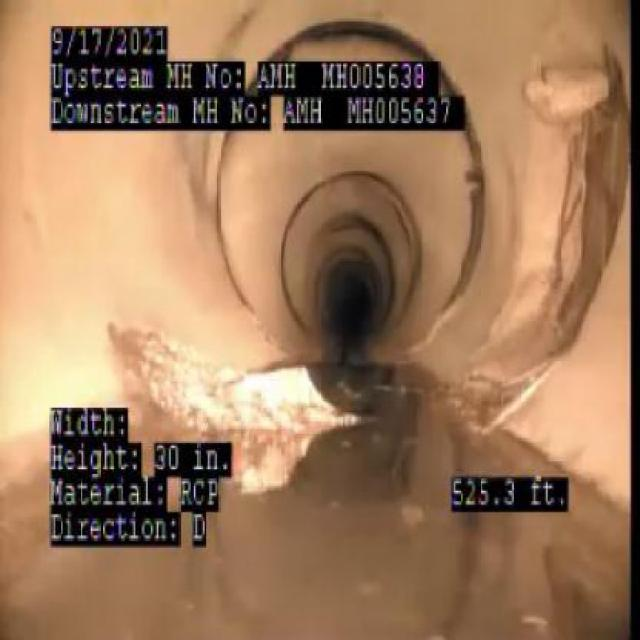Debris: (128, 289, 362, 443)
